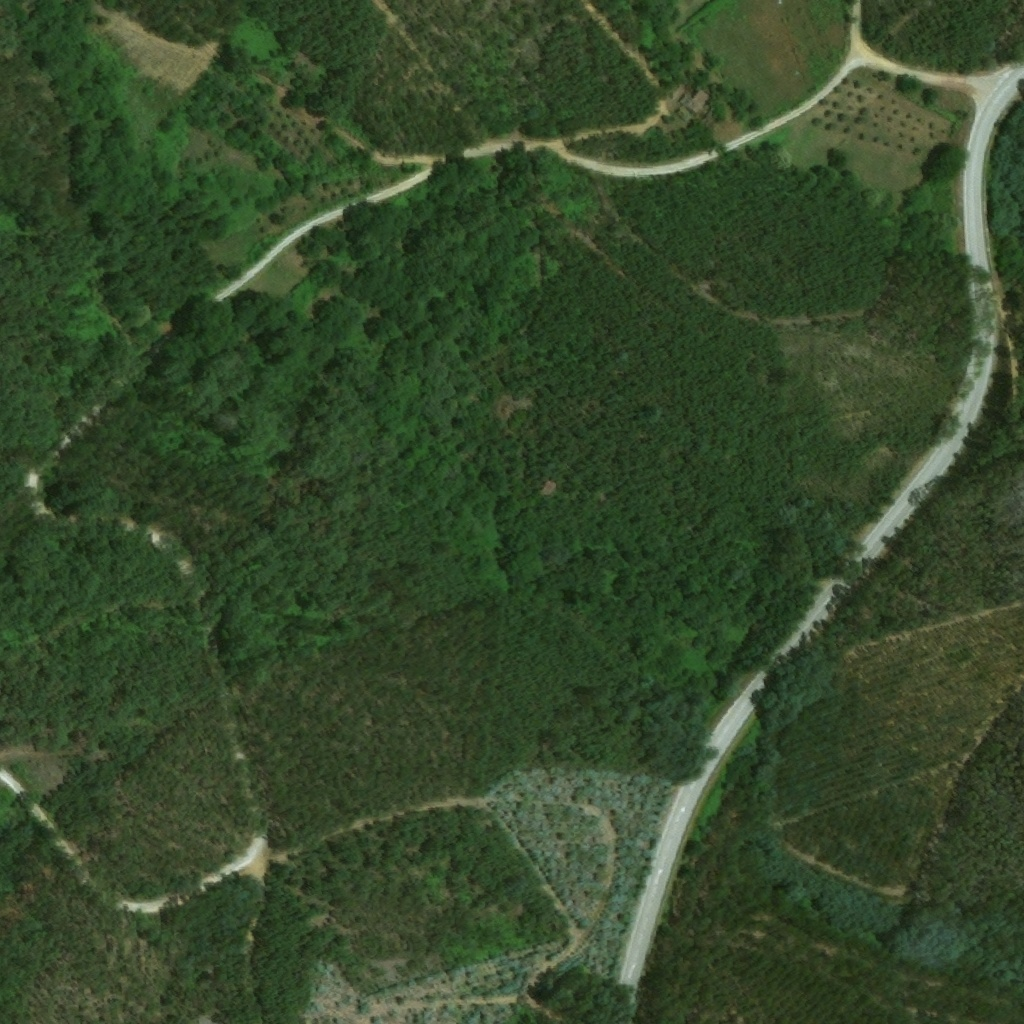0 no-damage: (681, 89, 710, 115)
